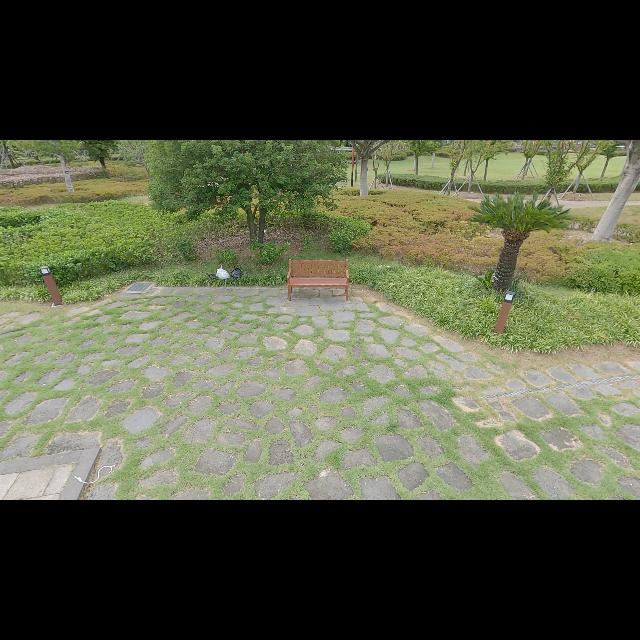trash: (215, 262, 231, 282), (227, 266, 246, 280)
